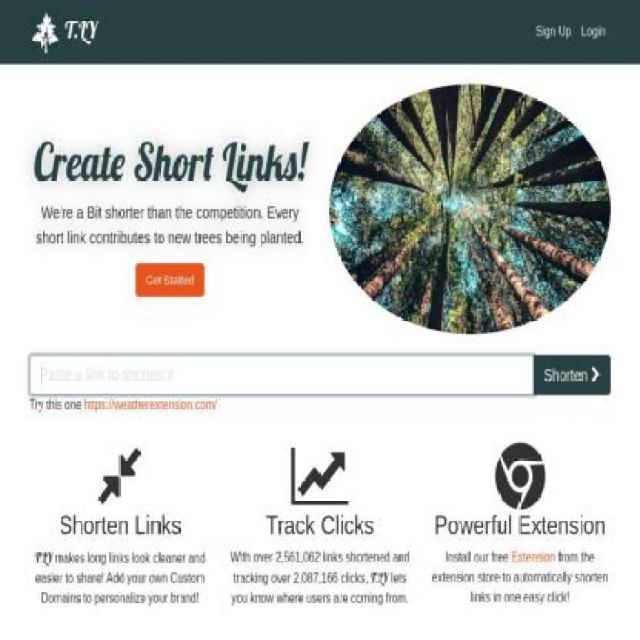button: (29, 7, 97, 58), (532, 354, 611, 395), (134, 262, 206, 296), (84, 396, 218, 412)
field: (29, 354, 534, 395)
